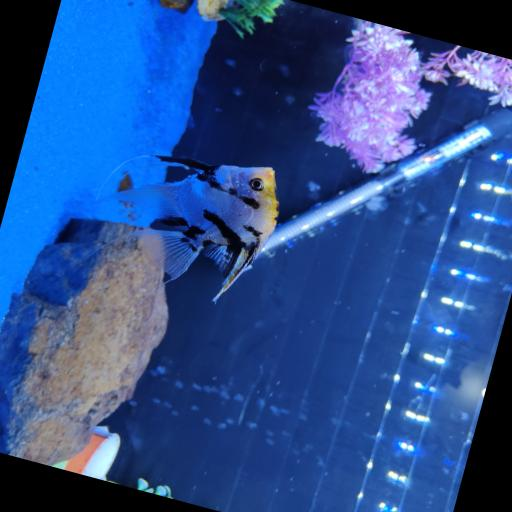Fish: (98, 155, 278, 300)
